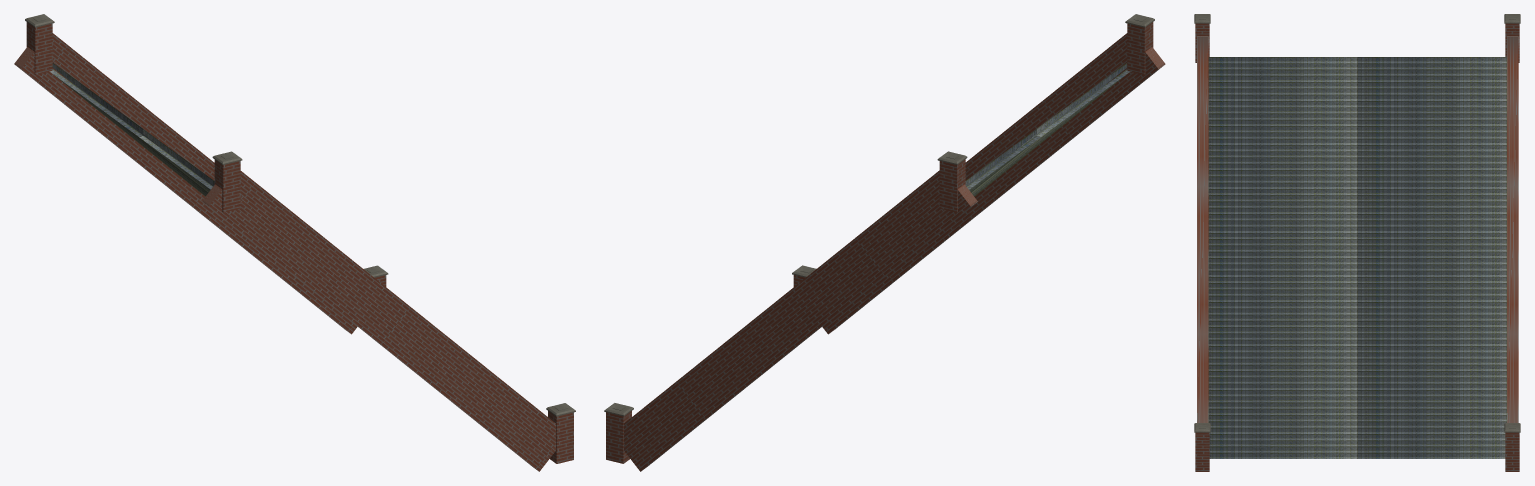
The model's file is StoneStairs_02.fbx.
3 views of the same model, side by side, from view 1: azimuth 30°, elevation 25°; view 2: azimuth 150°, elevation 25°; view 3: azimuth 270°, elevation 25° (orthographic). The views are drawn at different scales.
Visible parts, largest first — view 1: Cube.001; view 2: Cube.001; view 3: Cube.001.
Part boxes in pixels (x1,y1,x2,y2): Cube.001: [14, 14, 575, 471]; Cube.001: [604, 14, 1165, 471]; Cube.001: [1194, 14, 1520, 471].
Bounding box in the file's own units: 73.7 × 74.82 × 69.07.
